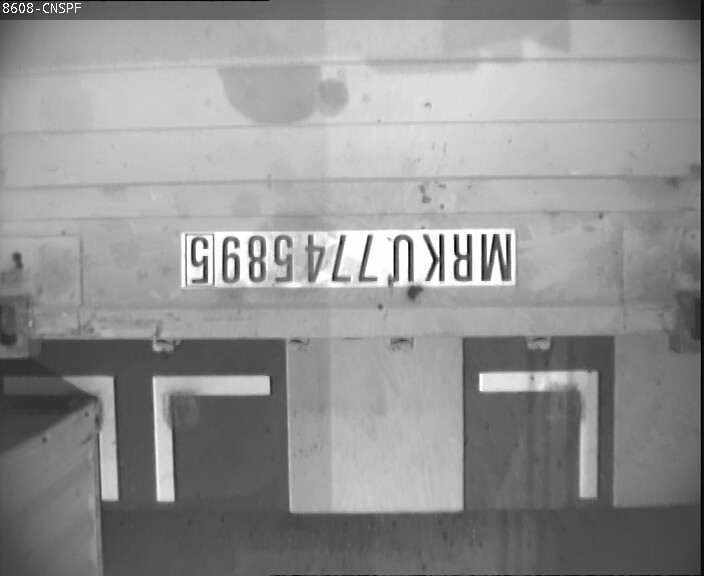groundmarker_1: (9, 369, 274, 501)
